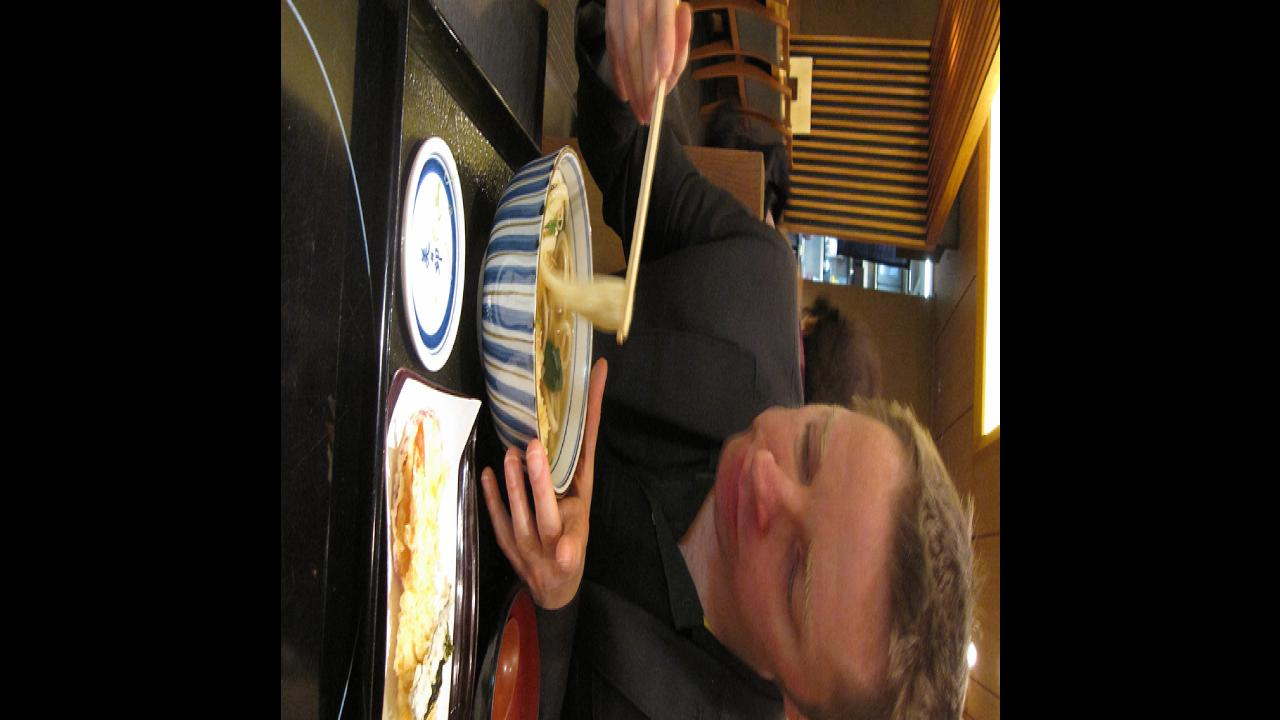chopstick: (613, 0, 699, 339)
